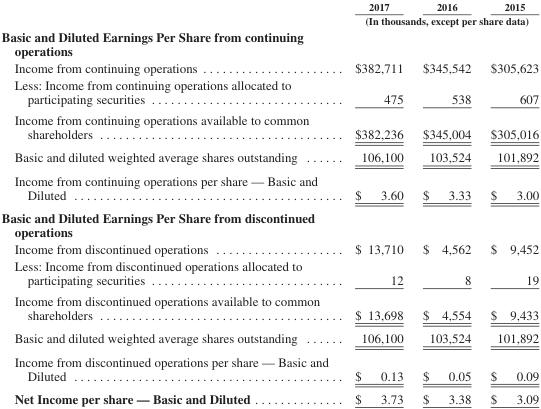table: (0, 0, 538, 405)
table column: (0, 0, 341, 405), (341, 0, 412, 405), (412, 0, 480, 405), (480, 0, 538, 405)
table column header: (0, 0, 538, 27)
table projected row header: (0, 205, 538, 240), (0, 27, 538, 59)
table row: (0, 168, 538, 205), (0, 349, 538, 386), (0, 109, 538, 145), (0, 290, 538, 326), (0, 205, 538, 240), (0, 76, 538, 109), (0, 257, 538, 290), (0, 27, 538, 59), (0, 145, 538, 168), (0, 326, 538, 349), (0, 386, 538, 405), (0, 59, 538, 76), (0, 240, 538, 257), (0, 13, 538, 27), (0, 0, 538, 13)
table spanning cell: (341, 13, 538, 27)
